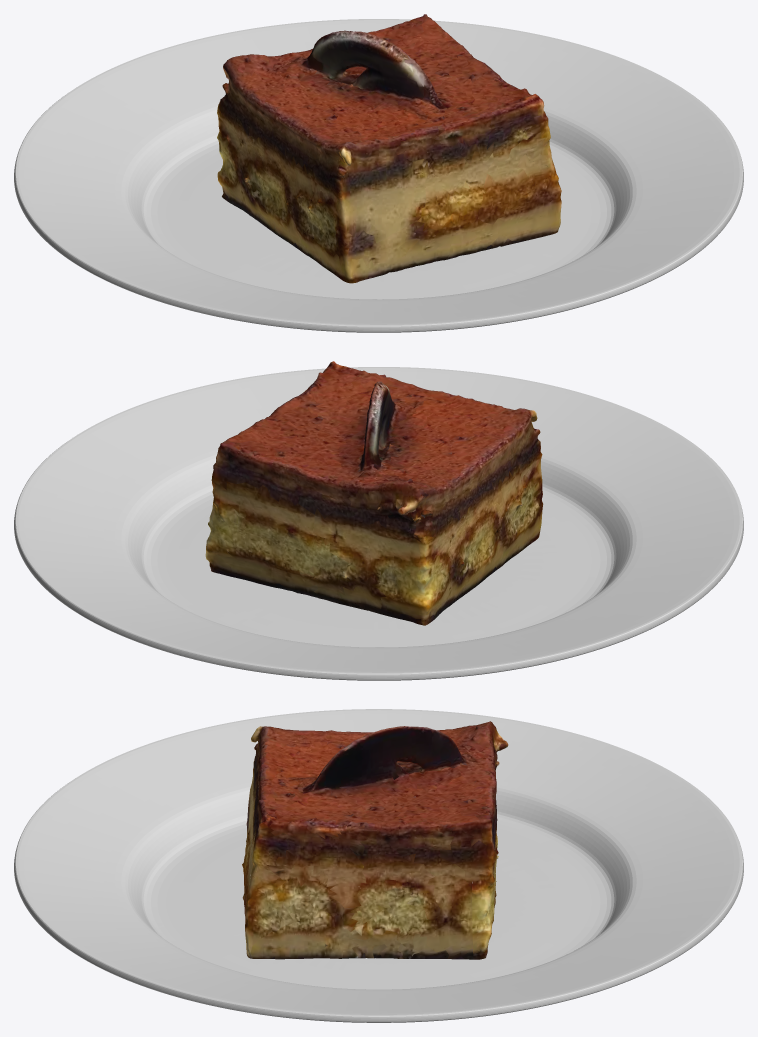
Rendered from tiramisu+plate WEBAR ready .compressed.glb.
3 renders of one model, top to bottom at view 1: azimuth 30°, elevation 25°; view 2: azimuth 150°, elevation 25°; view 3: azimuth 270°, elevation 25°, orthographic.
Visible parts, largest first — view 1: 3DModel_LowPoly; view 2: 3DModel_LowPoly; view 3: 3DModel_LowPoly.
Part boxes in pixels (left/top/right/bottom): 3DModel_LowPoly: left=14, top=14, right=743, bottom=332; 3DModel_LowPoly: left=14, top=361, right=743, bottom=680; 3DModel_LowPoly: left=14, top=709, right=743, bottom=1022.
Bounding box in the file's own units: 0.2192 × 0.06 × 0.2192.
Materials: 2 (1 with a texture image).
